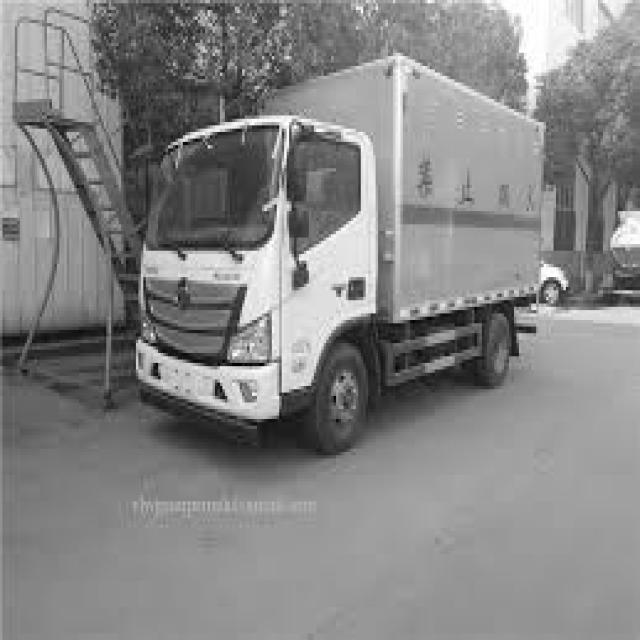truck: (127, 101, 395, 466)
